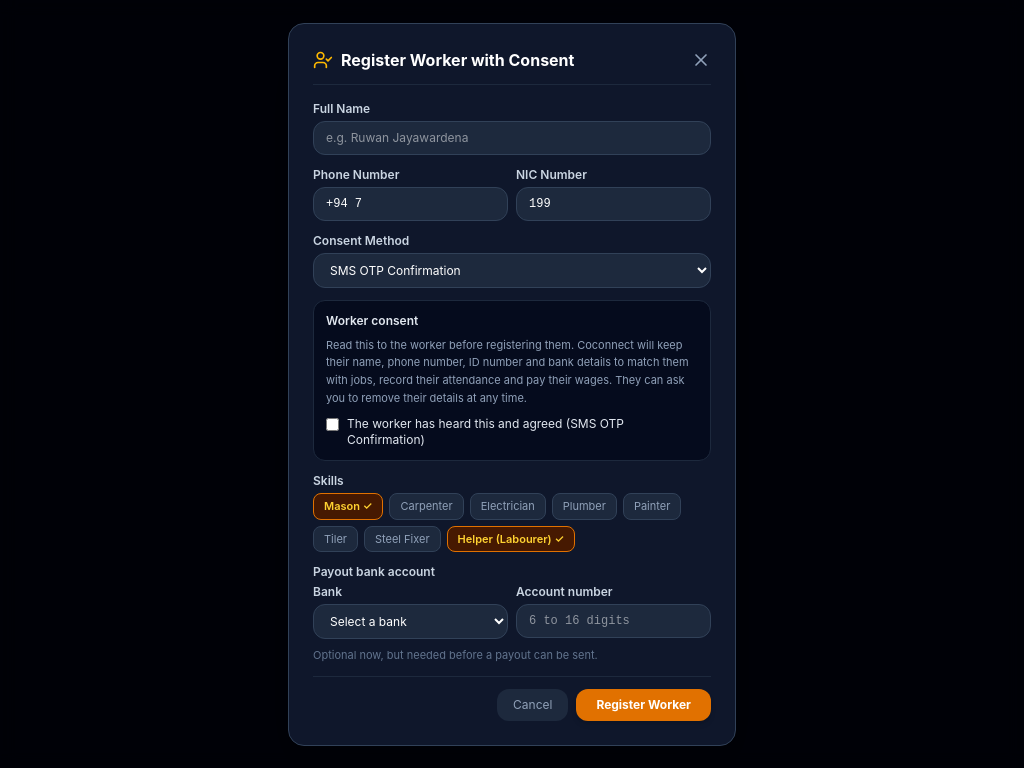
Scenario: AddWorkerModal consent and bank details › will not register a worker until consent is confirmed
In the field with placeholder "e.g. Ruwan Jayawardena": (512, 138) top-left (313, 120), bottom-right (711, 154), type "Nuwan Perera"
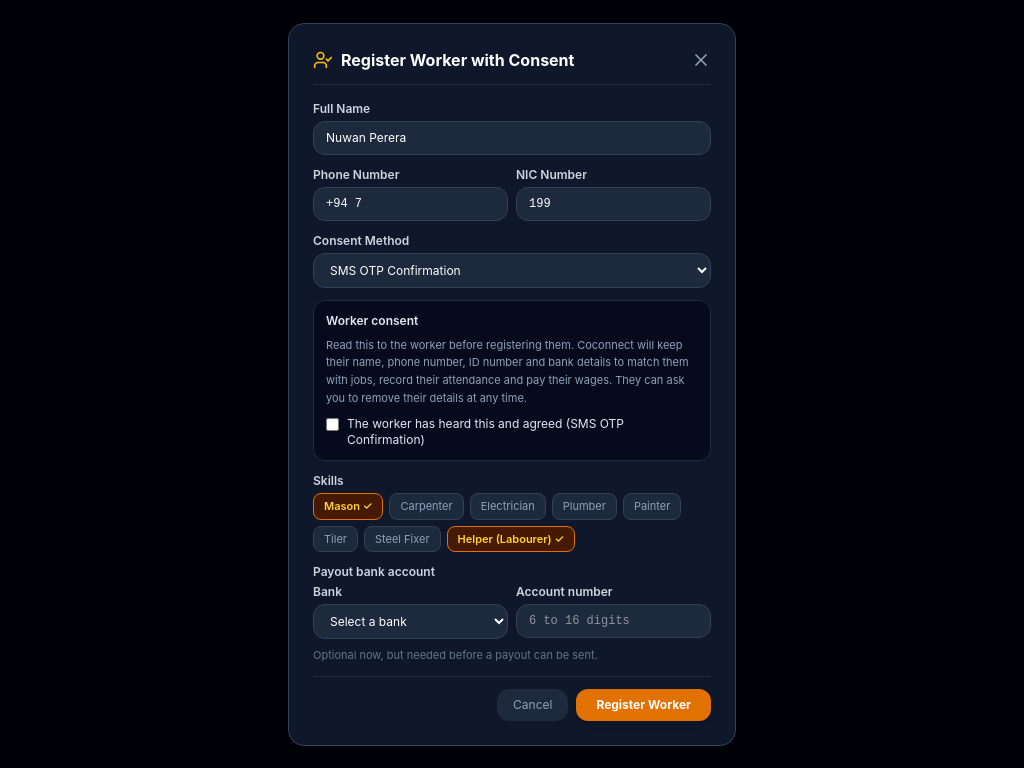
Click the submit button: (644, 704) top-left (576, 688), bottom-right (711, 720)
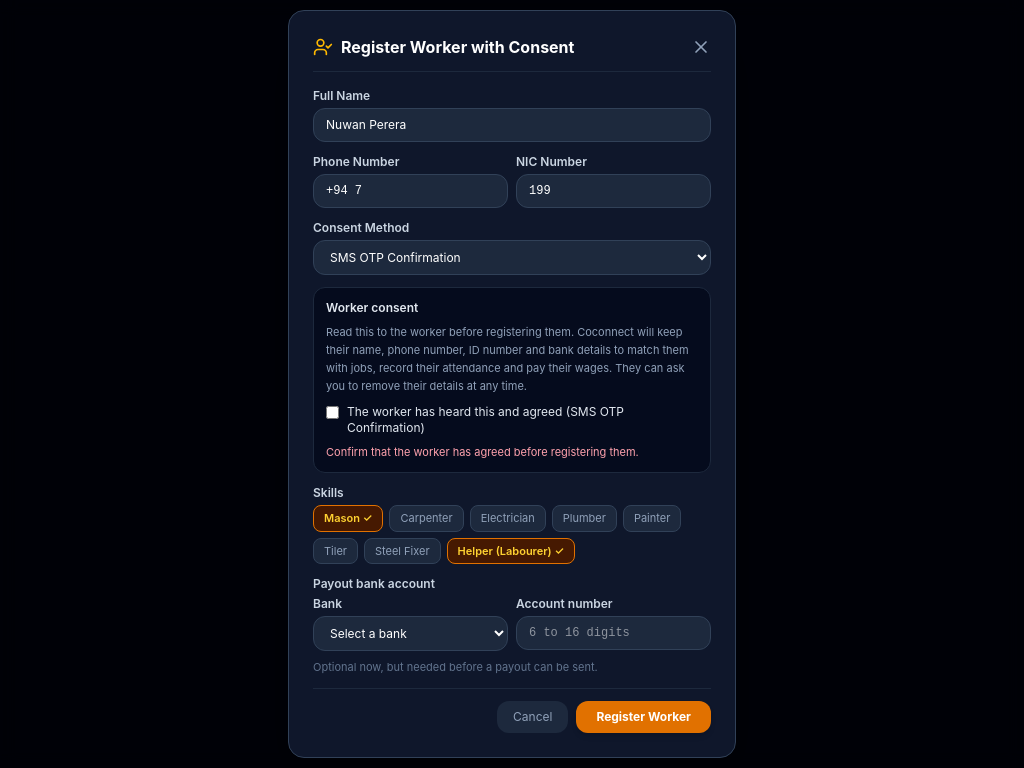
Check: the text "Confirm that the worker has agreed before registering them." is shown, box top-left (326, 445), bottom-right (639, 459)
